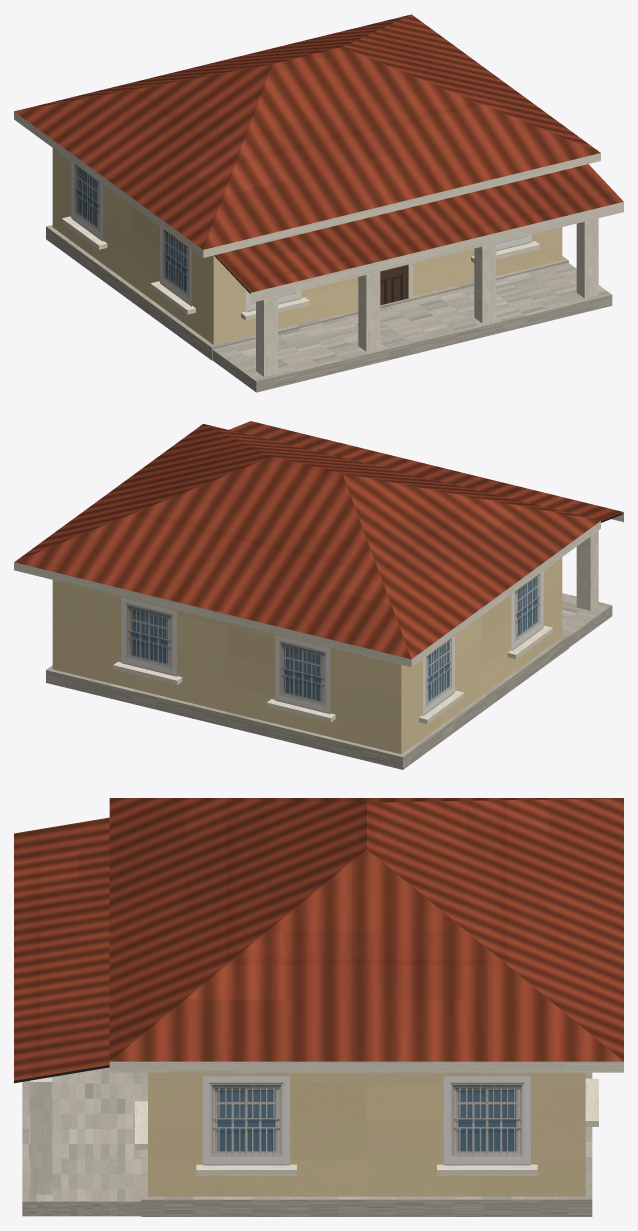
File: bungalow-cream.glb
3 renders of one model, top to bottom at view 1: azimuth 30°, elevation 25°; view 2: azimuth 150°, elevation 25°; view 3: azimuth 270°, elevation 25°, orthographic. The views are drawn at different scales.
Visible parts, largest first — view 1: bungalow-cream; view 2: bungalow-cream; view 3: bungalow-cream.
Boxes of the visible parts, box(x1,y1,x2,y2) form: bungalow-cream: box(14, 14, 623, 392); bungalow-cream: box(14, 421, 623, 769); bungalow-cream: box(14, 798, 623, 1216).
Bounding box in the file's own units: 11.4 × 5.5 × 11.15.
1 material, 1 textured.
